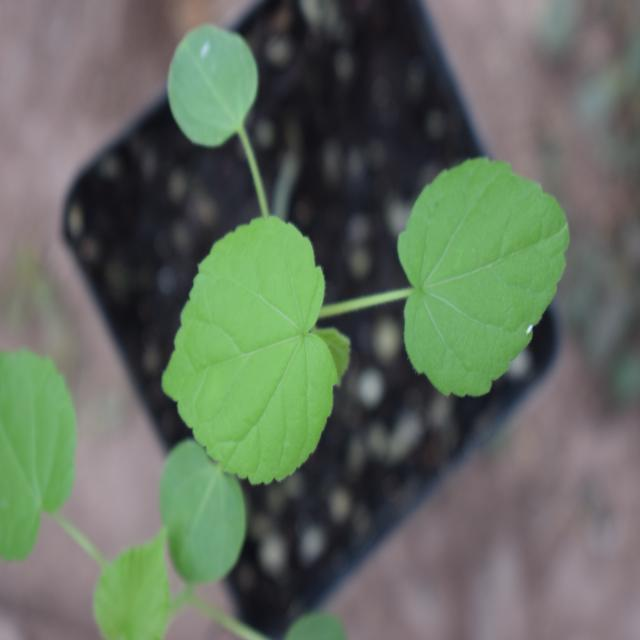abutilon theophrasti: (140, 42, 558, 525)
